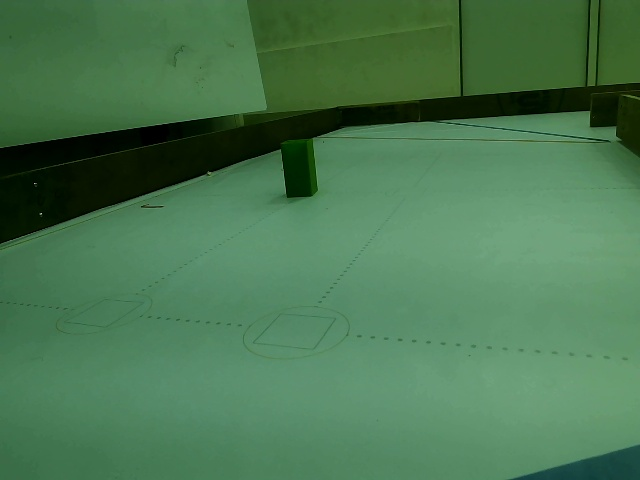green: (284, 140, 317, 196)
